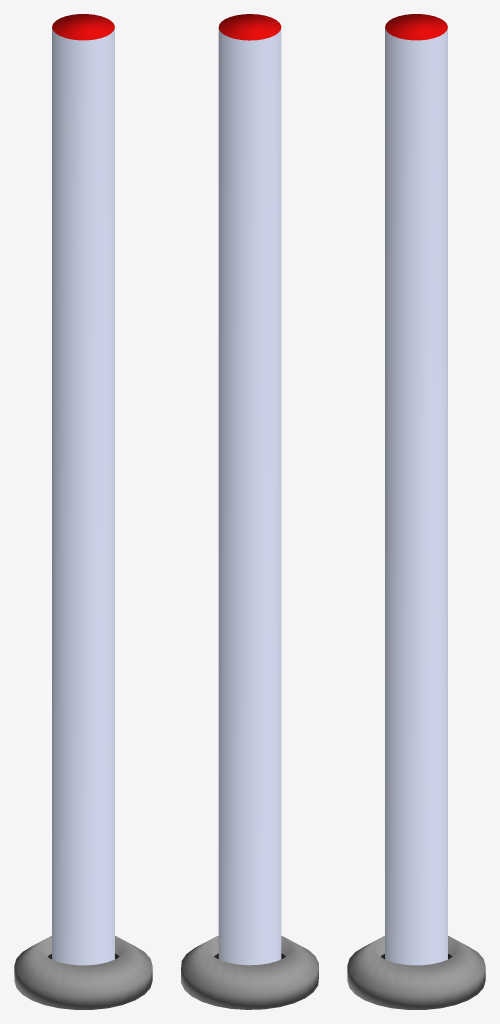
The model's file is beam.fbx.
The picture shows the model from 3 angles, left to right: view 1: azimuth 90°, elevation 25°; view 2: azimuth 150°, elevation 25°; view 3: azimuth 270°, elevation 25°; orthographic projection.
Visible parts, largest first — view 1: Cylinder; view 2: Cylinder; view 3: Cylinder.
Boxes of the visible parts, x1,y1,x2,y2 form: Cylinder: (14, 14, 152, 1009); Cylinder: (181, 14, 318, 1009); Cylinder: (347, 14, 485, 1009).
Bounding box in the file's own units: 39.71 × 304 × 40.
